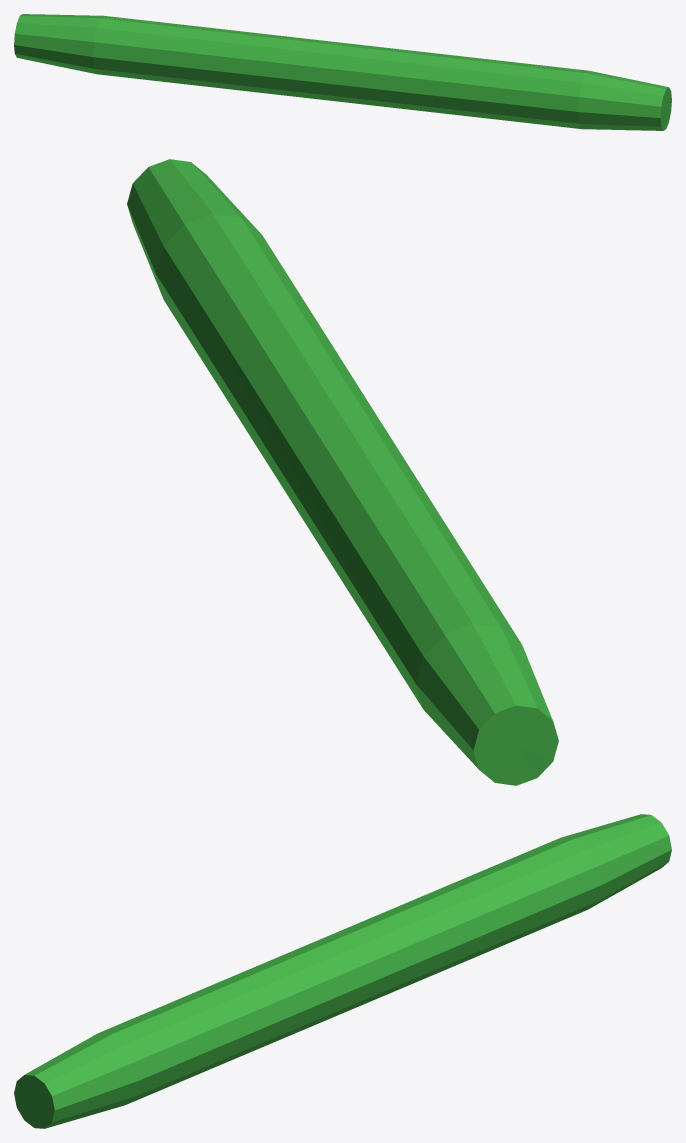
Rendered from tinker.obj.
3 renders of one model, top to bottom at view 1: azimuth 30°, elevation 25°; view 2: azimuth 150°, elevation 25°; view 3: azimuth 270°, elevation 25°, orthographic. The views are drawn at different scales.
Parts seen in each view (by area): view 1: obj_0; view 2: obj_0; view 3: obj_0.
Part boxes in pixels (x1,y1,x2,y2): obj_0: (14, 14, 671, 130); obj_0: (127, 159, 558, 785); obj_0: (14, 814, 671, 1128).
Bounding box in the file's own units: 12.82 × 1.5 × 12.82.
